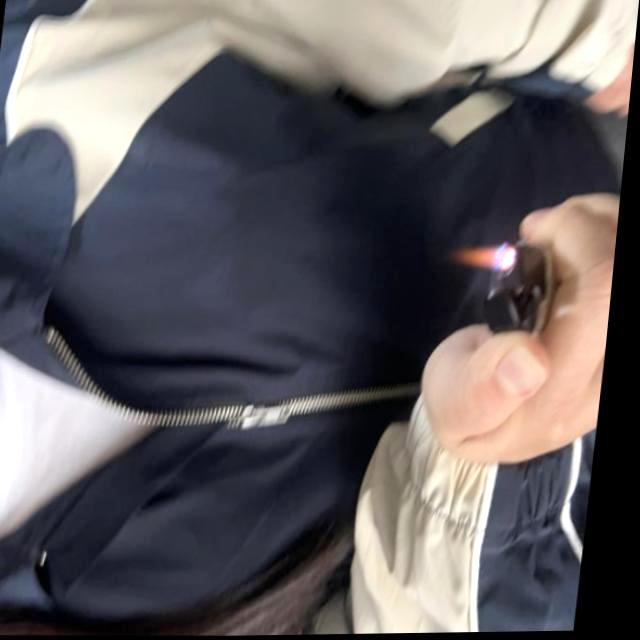fire: (457, 242, 523, 274)
